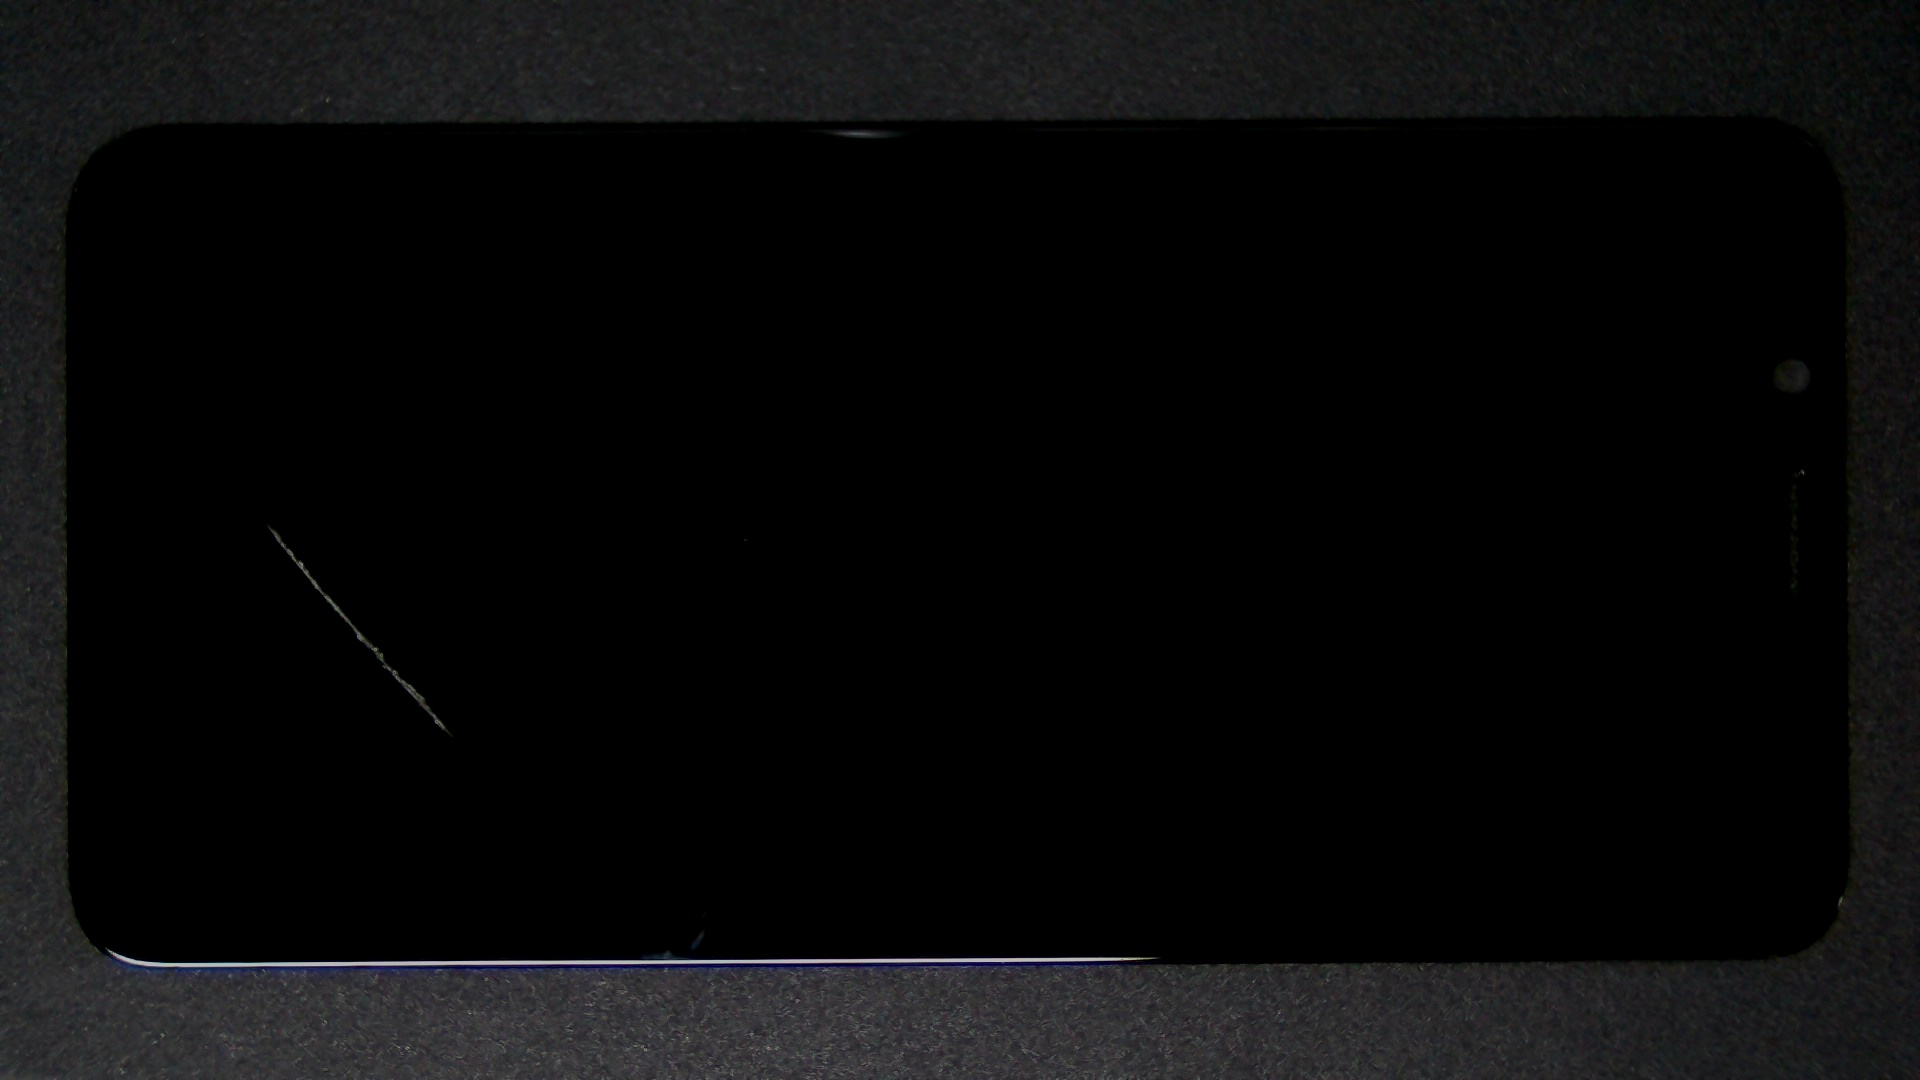oil: (135, 261, 400, 783)
